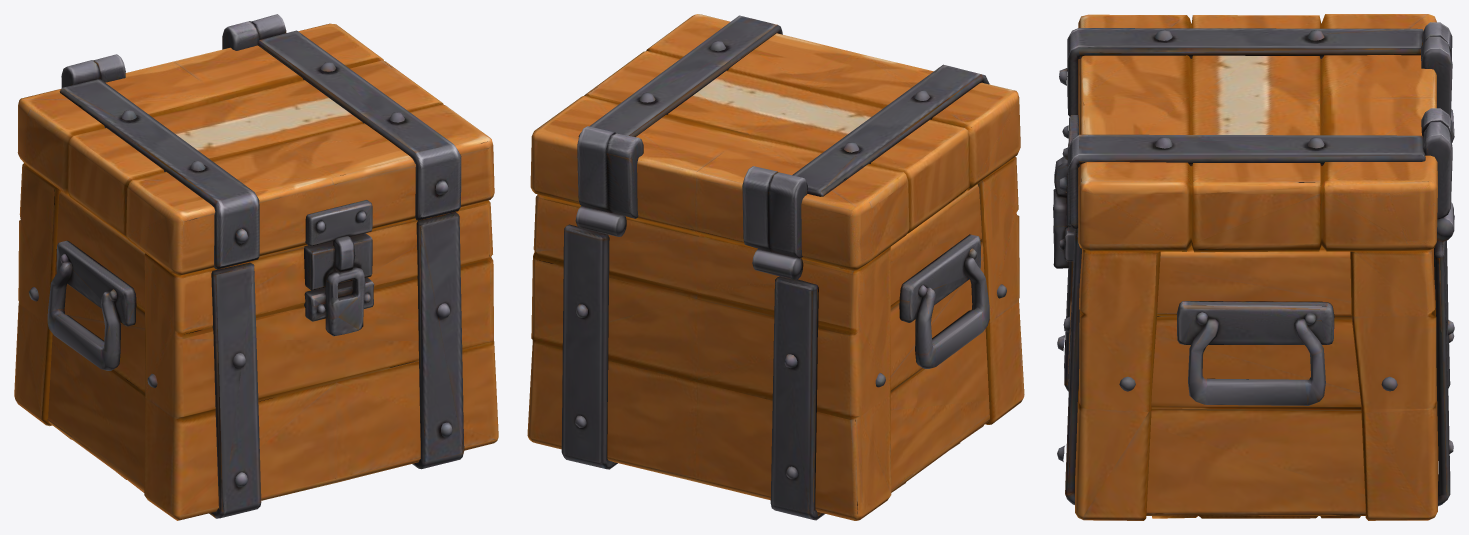
Rendered from tier-1-small.glb.
3 renders of one model, left to right at view 1: azimuth 30°, elevation 25°; view 2: azimuth 150°, elevation 25°; view 3: azimuth 270°, elevation 25°, orthographic. The views are drawn at different scales.
Parts seen in each view (by area): view 1: tier-1-small; view 2: tier-1-small; view 3: tier-1-small.
Part boxes in pixels (left/top/right/bottom): tier-1-small: left=14, top=14, right=498, bottom=520; tier-1-small: left=527, top=14, right=1024, bottom=520; tier-1-small: left=1053, top=14, right=1454, bottom=520.
Size of the model in its own units: 0.8 by 0.7 by 0.7.
1 material, 1 textured.
